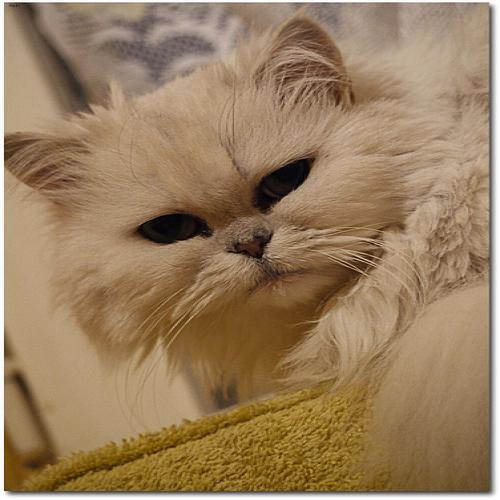persian: (1, 18, 403, 338)
